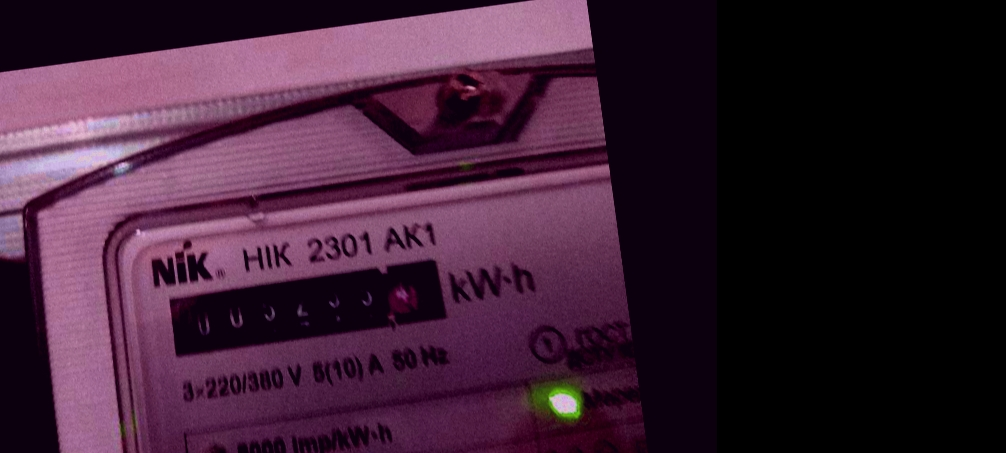0: (223, 297, 247, 332), (192, 305, 214, 339)
2: (288, 285, 313, 322)
3: (320, 278, 348, 314)
4: (388, 269, 415, 308)
5: (353, 273, 380, 312), (257, 291, 280, 326)
screen: (149, 244, 460, 371)
